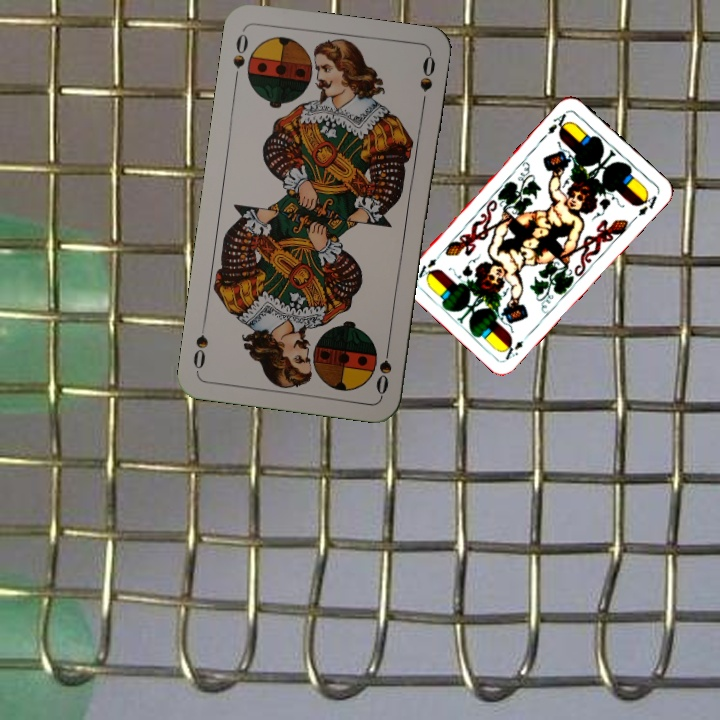EA: (499, 329, 532, 362), (544, 107, 573, 137)
SO: (372, 338, 395, 397), (229, 26, 251, 85)
